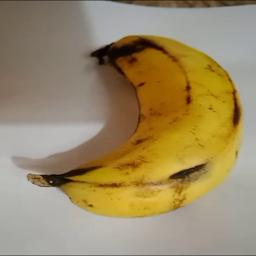Banana Semifresh: (28, 31, 243, 218)
